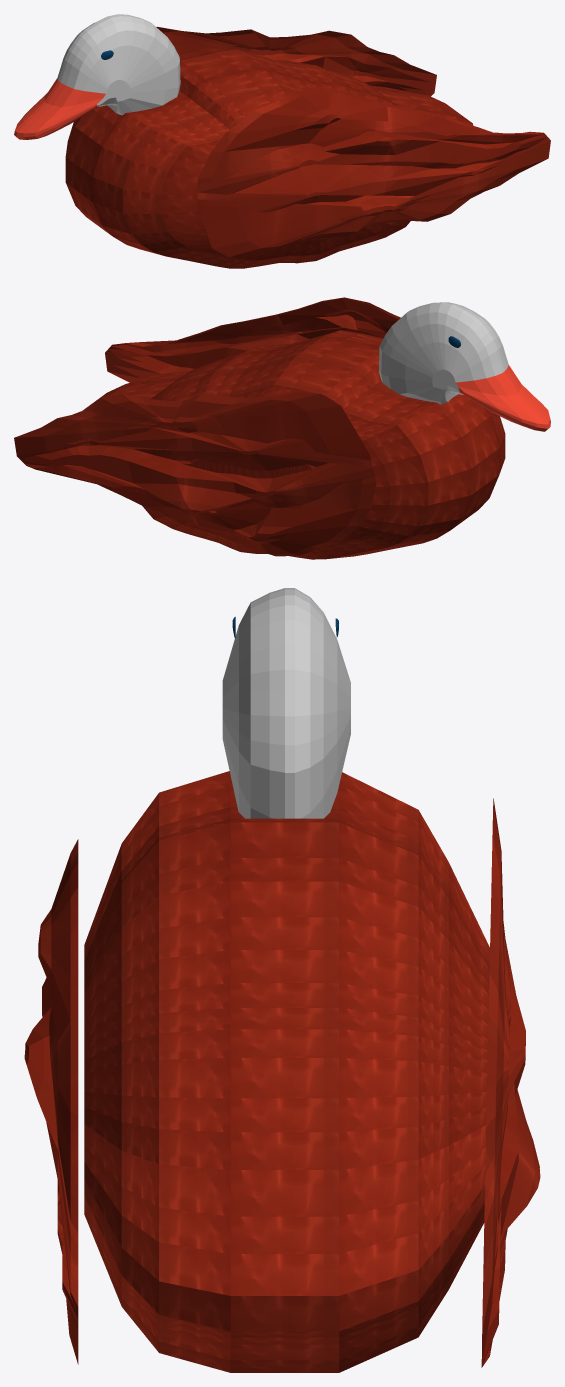
Rendered from eend.fbx.
3 views of the same model, one above another, from view 1: azimuth 30°, elevation 25°; view 2: azimuth 150°, elevation 25°; view 3: azimuth 270°, elevation 25° (orthographic). The views are drawn at different scales.
Parts seen in each view (by area): view 1: Plane.004, Plane, Plane.001, Plane.005; view 2: Plane.005, Plane, Plane.001, Plane.004; view 3: Plane, Plane.001, Plane.005, Plane.004.
Part boxes in pixels (box(x1,y1,x2,y2)): Plane.004: box(197, 87, 550, 257); Plane: box(65, 46, 473, 268); Plane.001: box(14, 14, 180, 139); Plane.005: box(156, 26, 436, 96); Plane.005: box(14, 392, 376, 556); Plane: box(83, 330, 505, 559); Plane.001: box(379, 302, 550, 431); Plane.004: box(105, 297, 400, 382); Plane: box(84, 771, 489, 1372); Plane.001: box(222, 588, 350, 818); Plane.005: box(481, 798, 540, 1367); Plane.004: box(24, 839, 78, 1364).
Size of the model in its own units: 797 by 424 by 369.
